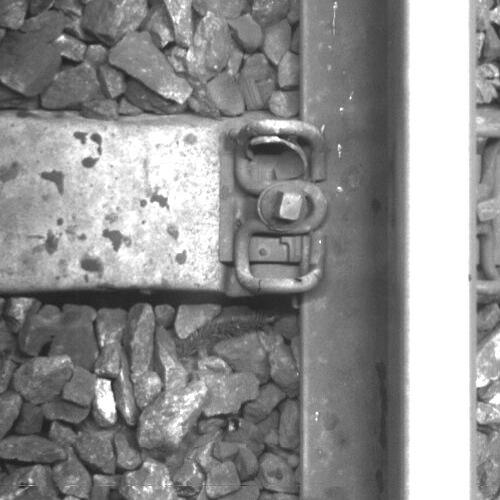rail: (403, 1, 476, 500)
tie_concr: (1, 120, 301, 287)
vossloh: (221, 119, 328, 294)
